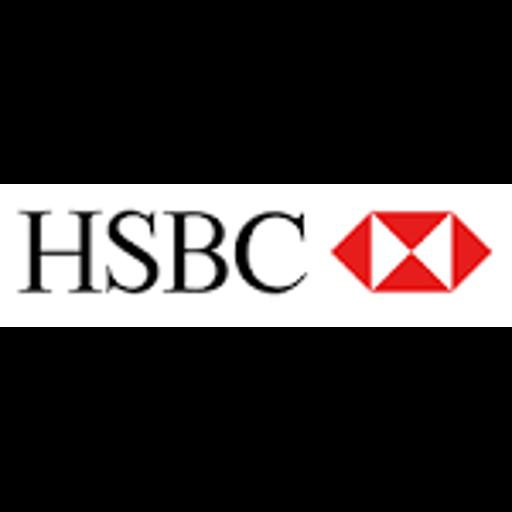HSBC Bank: (0, 184, 512, 327)
